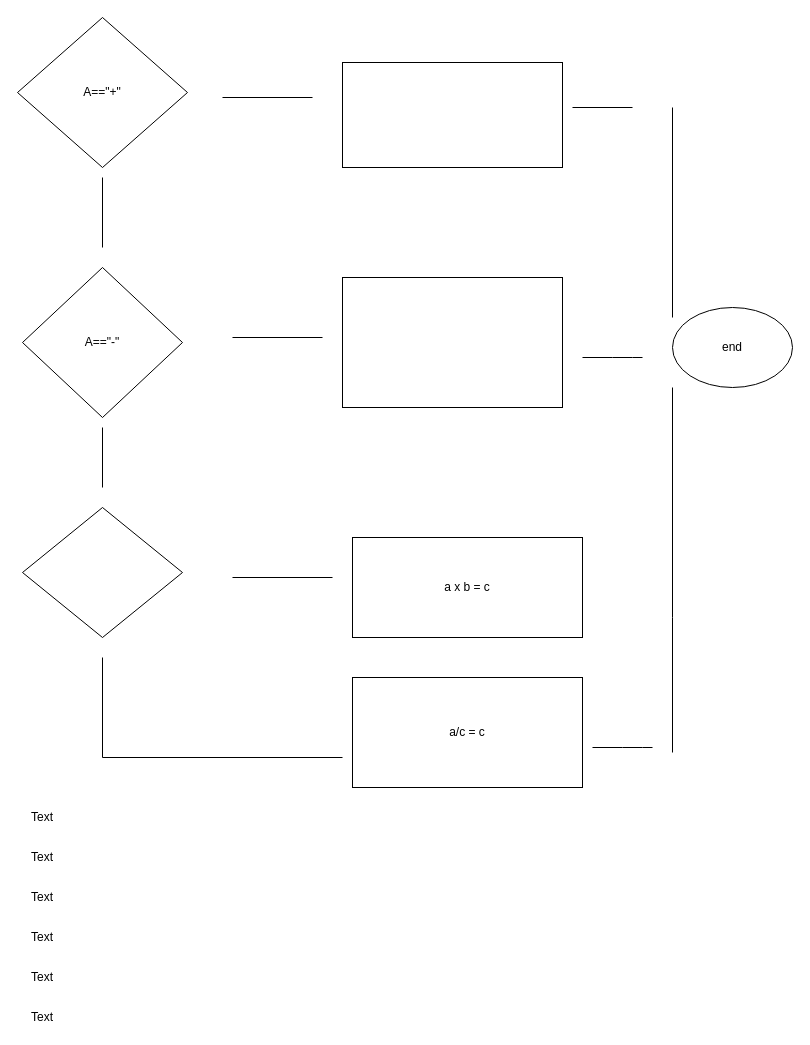
Some shapes in this 810 by 1045 pixel diagram are drawn without their labels. The centre of each missing label's shape, as x and y in pixels:
a+b=c: point 452,115
a- b= c: point 452,342
O=="x": point 102,572
